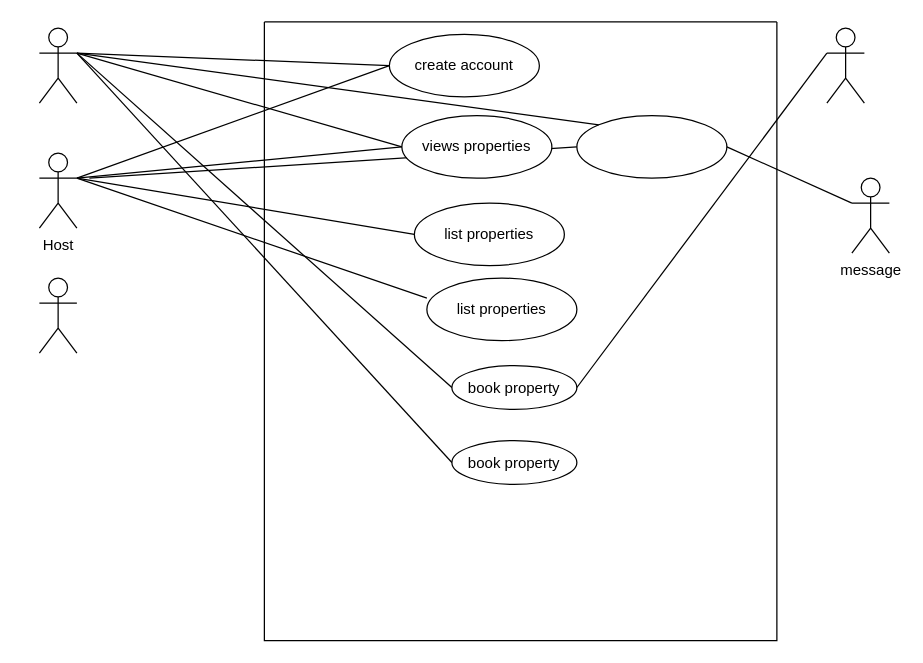
Some shapes in this 923 by 663 pixel diagram are drawn without their labels. The shapes that lost their labels are listed below. From the top down, each one's centre as x and y in pixels, then its label:
At point (57, 65): "Guest".
At point (845, 65): "paypal".
At point (651, 146): "send message".
At point (57, 315): "Admin".
